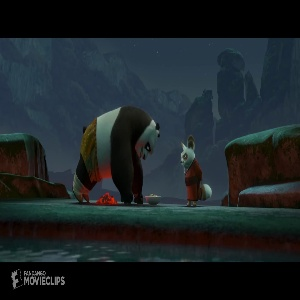po: (70, 104, 162, 207)
shifu: (176, 134, 216, 209)
